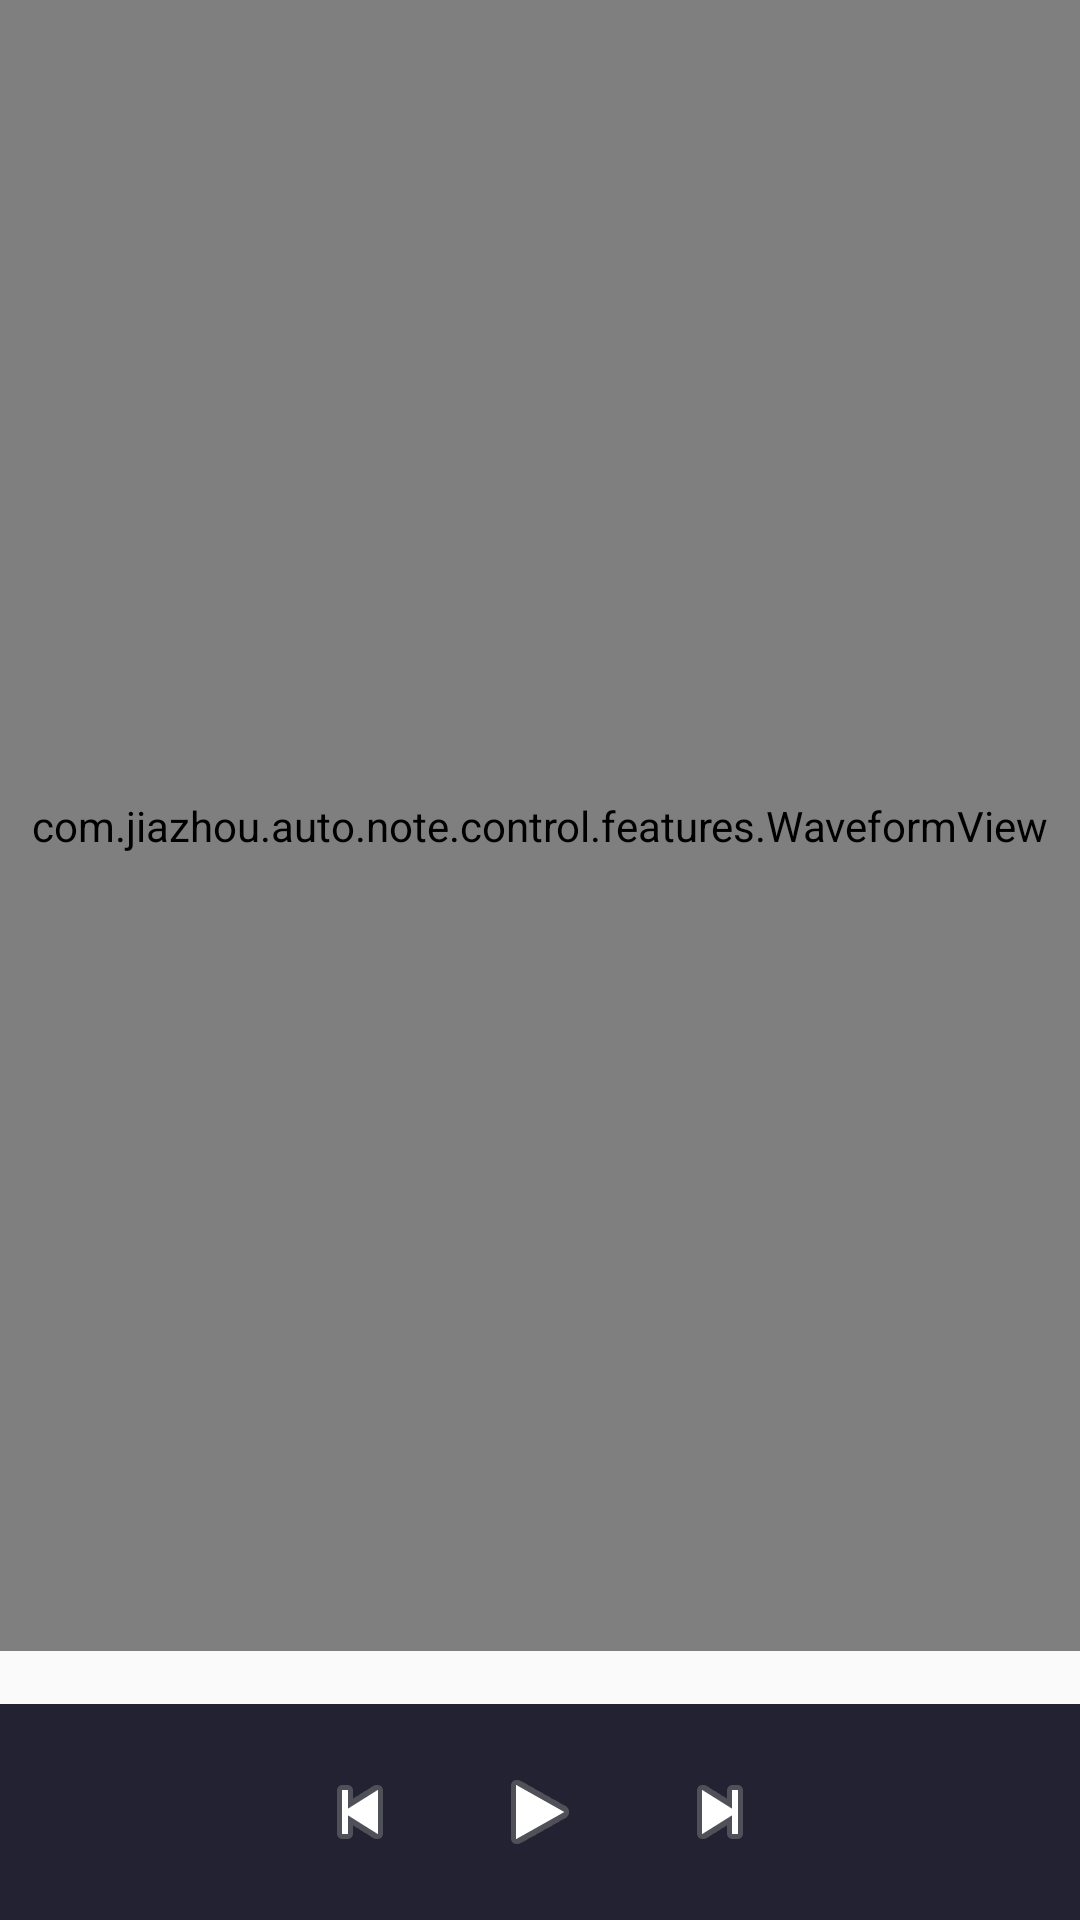

Named icons in this screenshot (1080px x 1920px) and their centers, [x,y]:
next: [720,1812]
play: [540,1812]
previous: [360,1812]
